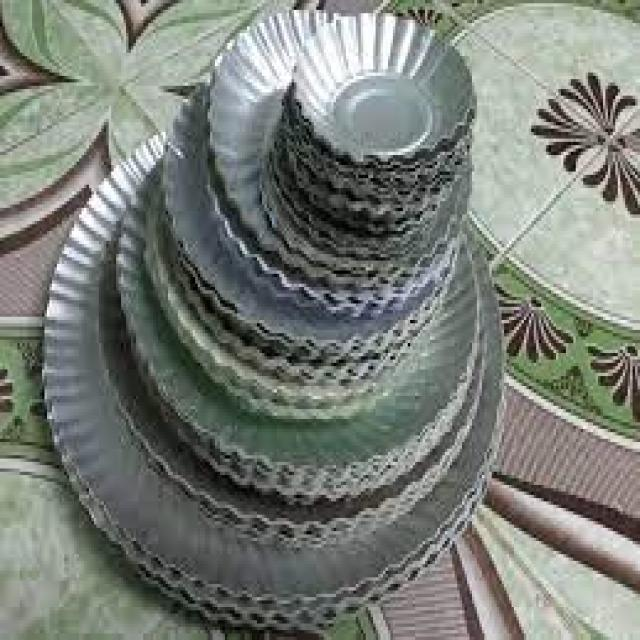Paper -Biodegradable-: (37, 11, 505, 625)
